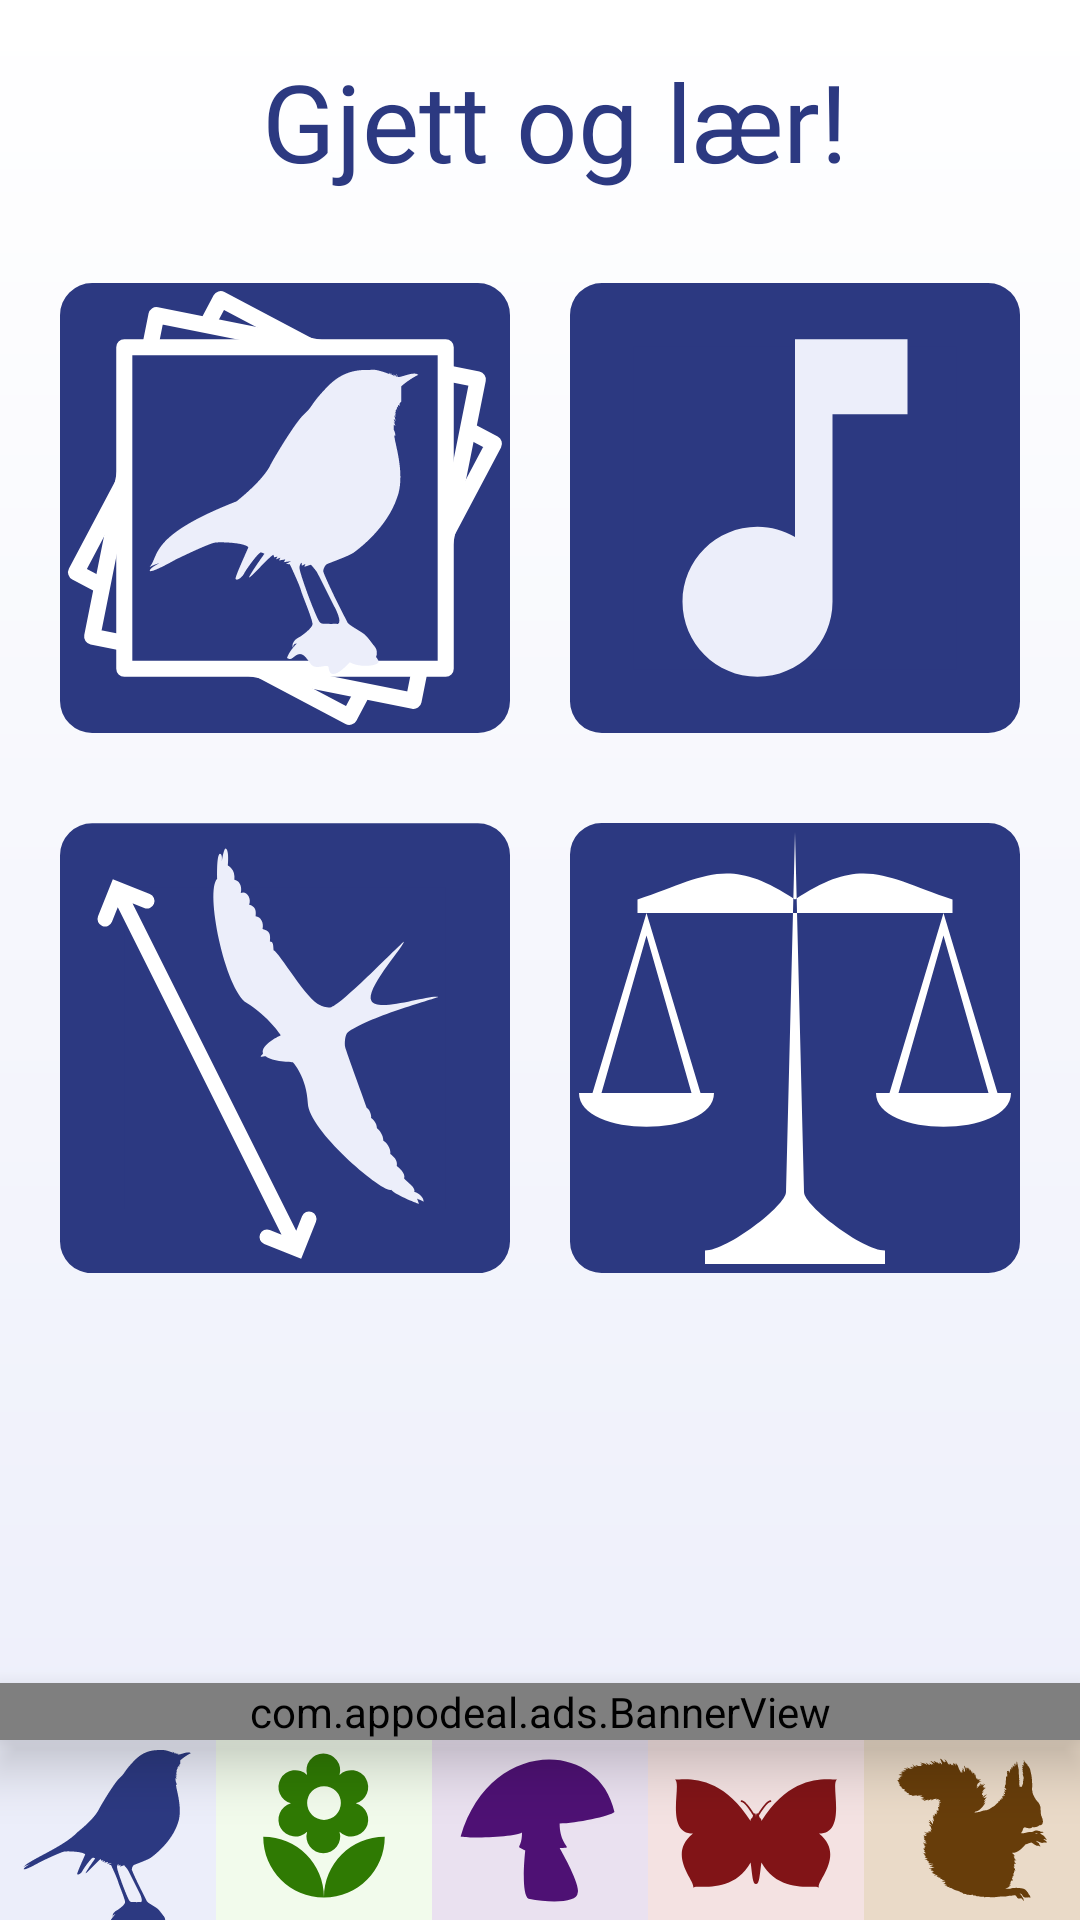

Icons on this 1080px×1920px Android screen, each with the point to tap as (x=x, y=y):
Ekorn: (x=972, y=1830)
Fugler: (x=108, y=1830)
planter: (x=324, y=1830)
Småkryp: (x=756, y=1830)
Sopp: (x=540, y=1830)
